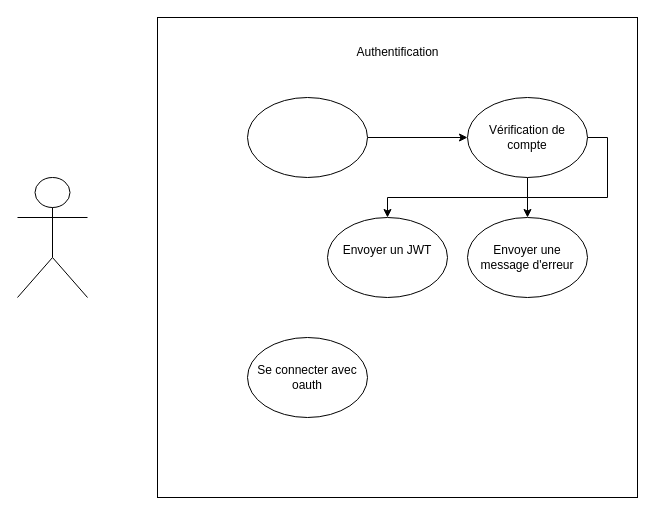
This 655x515 diagram has some shape labels left out. Each missing label, with the centre of its shape:
"Actor" goes at pixel 52 237.
"Se connecter avec formulaire" goes at pixel 307 137.
